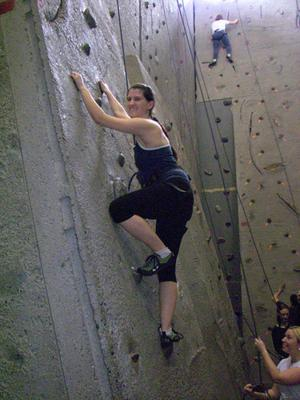person: (71, 70, 196, 347)
